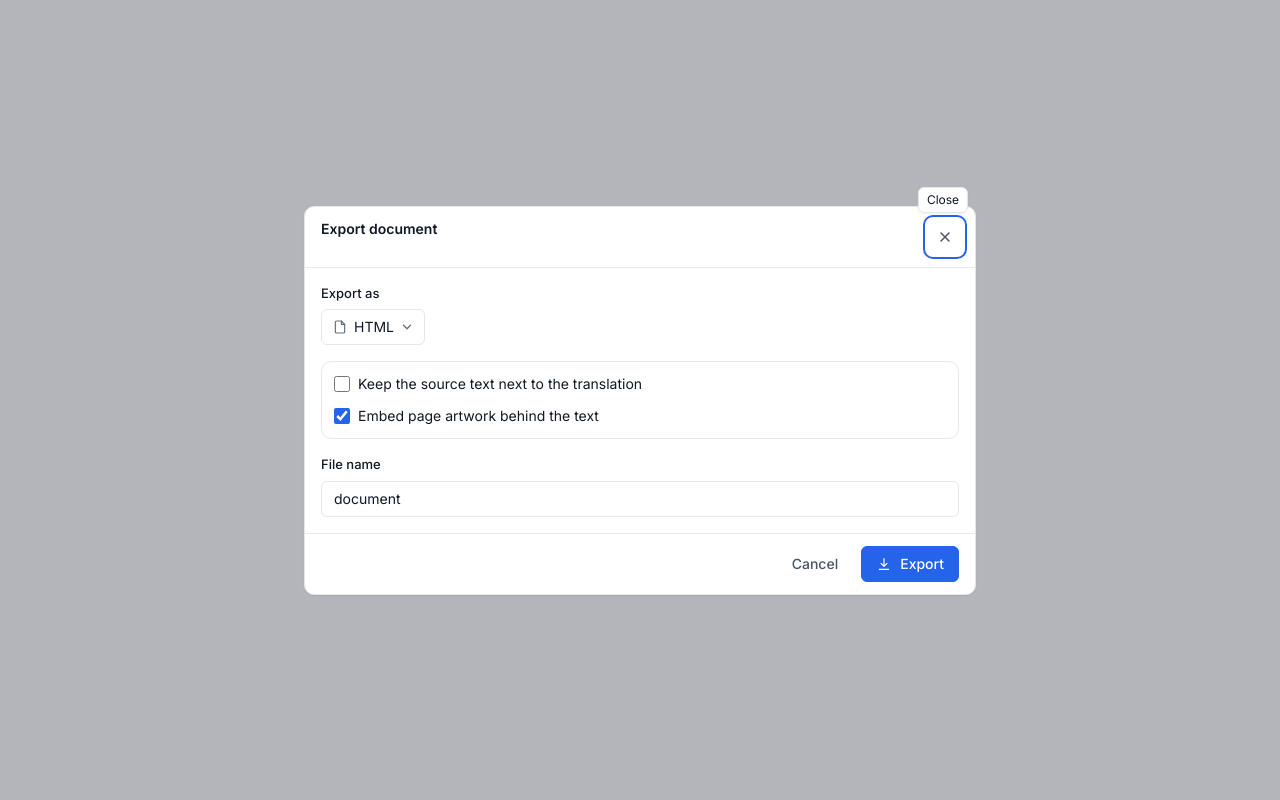
Test: ExportDialog › opens with the format menu, a slugified file name and no false font warning
Expected: the dialog is shown, 304,206 -> 976,594
Note: "Export as" menu: every format is listed under its group heading.
Click the button with test id "export-format-html" at (373, 327), box 321,309 -> 425,345
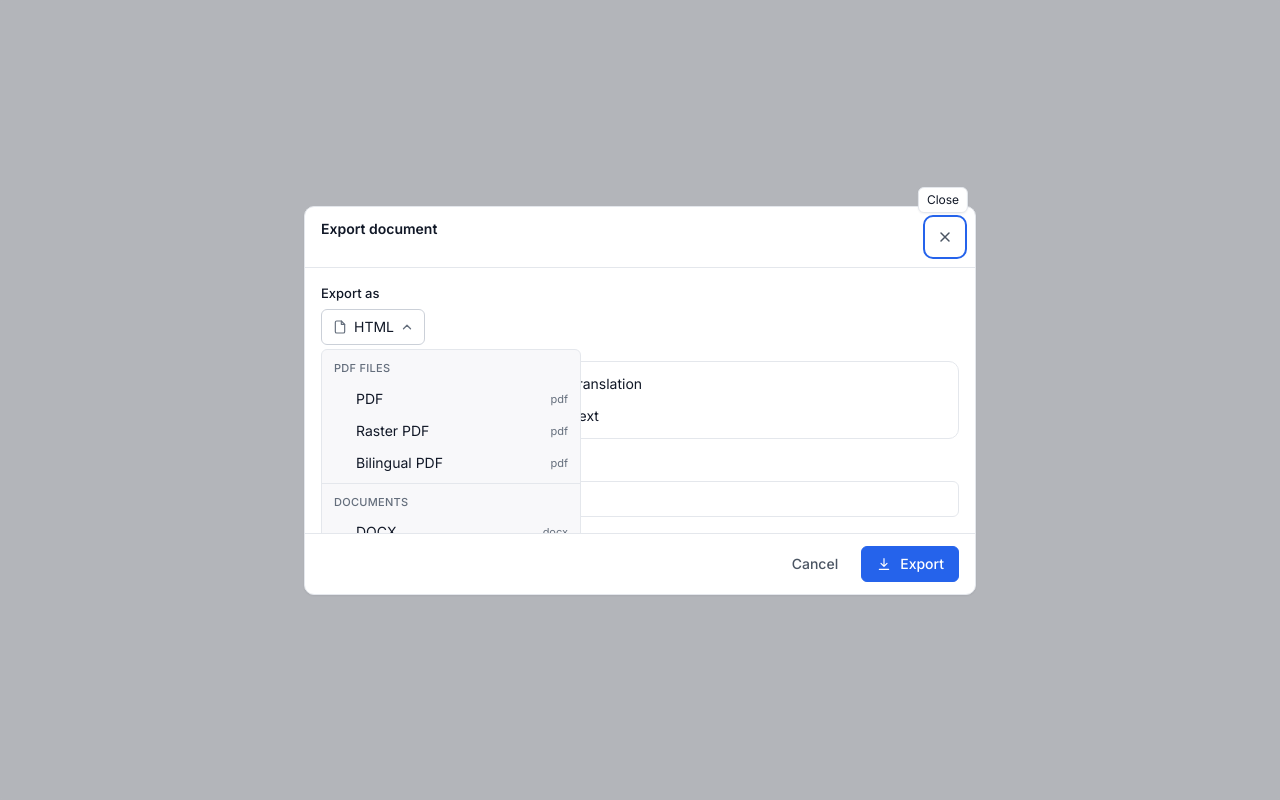
Expected: the text "PDF" is shown, 356,390 -> 383,406
Expected: the field showing "sample-report" is shown, 321,480 -> 959,516
